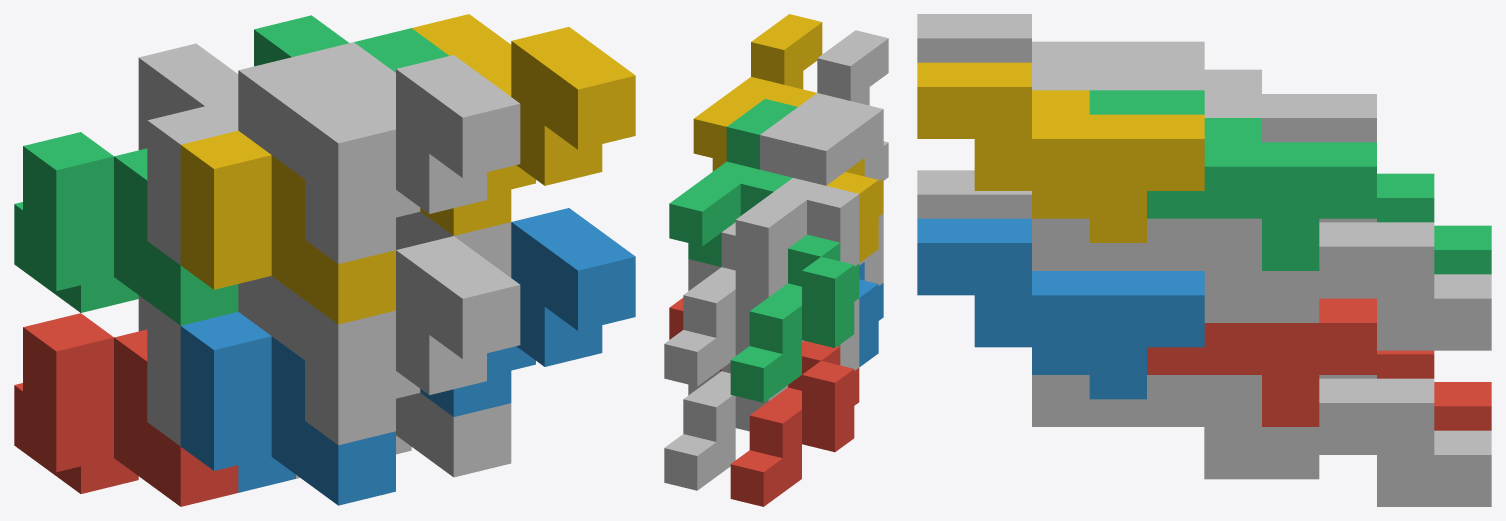
The model's file is tiling.obj.
The picture shows the model from 3 angles, left to right: view 1: azimuth 30°, elevation 25°; view 2: azimuth 150°, elevation 25°; view 3: azimuth 270°, elevation 25°; orthographic projection. The views are drawn at different scales.
Parts seen in each view (by area): view 1: copy_2_domain_4, copy_2_domain_2, copy_1_domain_3, copy_1_domain_1, copy_1_domain_2, copy_1_domain_4, copy_2_domain_8, copy_2_domain_3, copy_2_domain_6, copy_2_domain_1, copy_1_domain_6, copy_2_domain_7 (+1 smaller); view 2: copy_1_domain_3, copy_1_domain_1, copy_2_domain_3, copy_1_domain_7, copy_2_domain_4, copy_2_domain_7, copy_2_domain_8, copy_1_domain_5, copy_1_domain_4, copy_1_domain_2, copy_2_domain_1, copy_2_domain_2 (+2 smaller); view 3: copy_2_domain_8, copy_2_domain_6, copy_2_domain_7, copy_1_domain_8, copy_1_domain_6, copy_1_domain_7, copy_1_domain_5, copy_2_domain_5, copy_2_domain_4, copy_2_domain_3, copy_1_domain_3, copy_1_domain_1 (+1 smaller).
Boxes of the visible parts, <box> form: copy_2_domain_4: <box>296,42,520,263</box>; copy_2_domain_2: <box>305,236,520,445</box>; copy_1_domain_3: <box>14,132,238,325</box>; copy_1_domain_1: <box>14,313,238,506</box>; copy_1_domain_2: <box>180,312,395,505</box>; copy_1_domain_4: <box>180,130,395,324</box>; copy_2_domain_8: <box>412,14,635,235</box>; copy_2_domain_3: <box>138,43,362,264</box>; copy_2_domain_6: <box>420,208,635,416</box>; copy_2_domain_1: <box>138,276,304,446</box>; copy_1_domain_6: <box>396,393,511,477</box>; copy_2_domain_7: <box>254,15,448,72</box>; copy_1_domain_3: <box>730,234,859,402</box>; copy_1_domain_1: <box>730,340,859,506</box>; copy_2_domain_3: <box>735,115,864,266</box>; copy_1_domain_7: <box>664,222,787,386</box>; copy_2_domain_4: <box>760,30,888,181</box>; copy_2_domain_7: <box>669,99,797,266</box>; copy_2_domain_8: <box>693,14,822,171</box>; copy_1_domain_5: <box>664,362,787,490</box>; copy_1_domain_4: <box>826,158,883,262</box>; copy_1_domain_2: <box>859,262,883,367</box>; copy_2_domain_1: <box>735,260,864,370</box>; copy_2_domain_2: <box>864,141,888,285</box>; copy_2_domain_8: <box>917,62,1204,242</box>; copy_2_domain_6: <box>917,218,1204,399</box>; copy_2_domain_7: <box>1089,90,1376,270</box>; copy_1_domain_8: <box>1032,218,1319,322</box>; copy_1_domain_6: <box>1032,375,1319,479</box>; copy_1_domain_7: <box>1319,218,1491,350</box>; copy_1_domain_5: <box>1319,375,1491,506</box>; copy_2_domain_5: <box>1147,298,1376,426</box>; copy_2_domain_4: <box>917,14,1204,90</box>; copy_2_domain_3: <box>1089,41,1376,142</box>; copy_1_domain_3: <box>1377,173,1491,274</box>; copy_1_domain_1: <box>1377,350,1491,430</box>.
Bounding box in the file's own units: 6 × 9 × 10.
